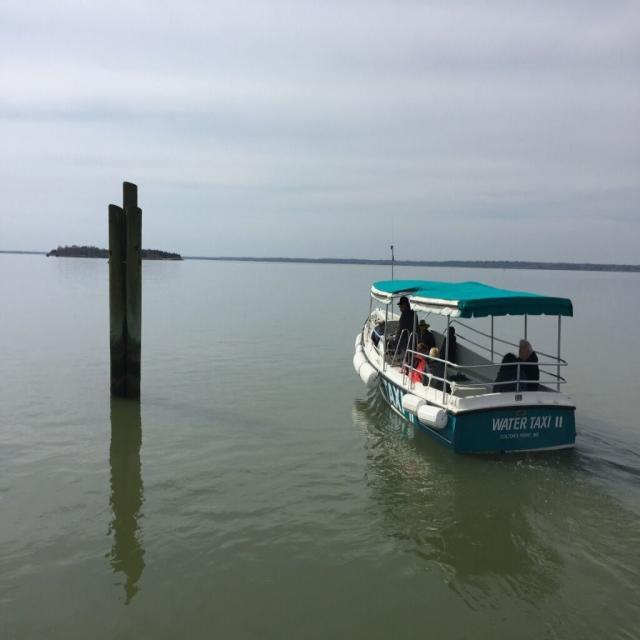passenger ship: (347, 270, 571, 464)
